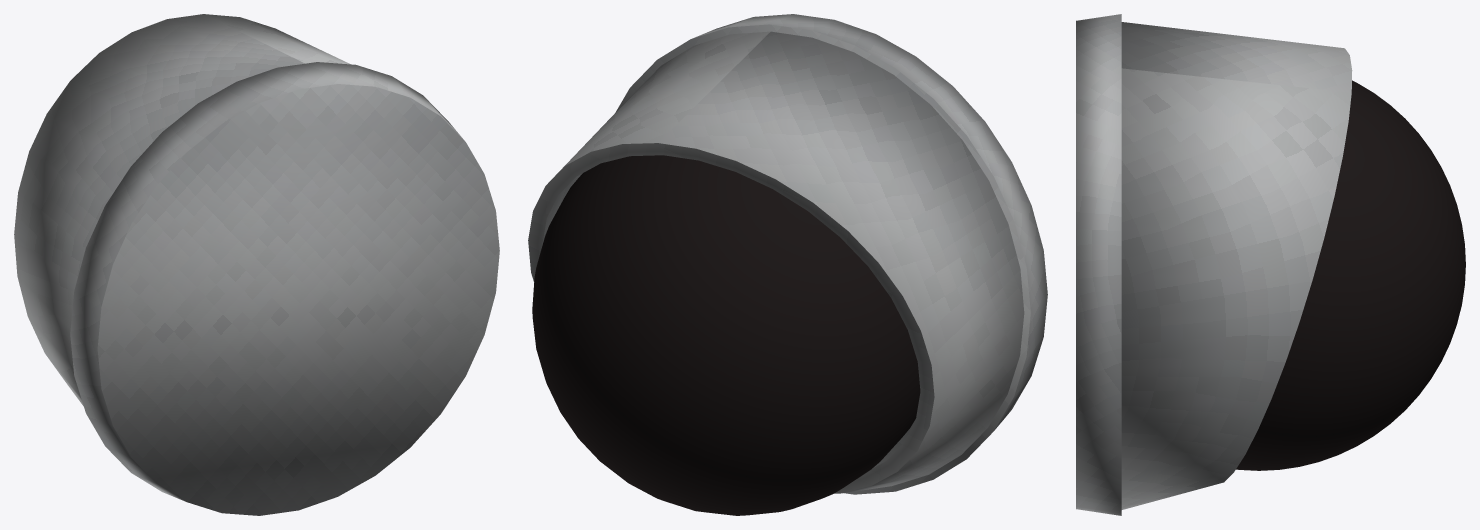
Rendered from SecurityCamera.fbx.
3 views of the same model, side by side, from view 1: azimuth 30°, elevation 25°; view 2: azimuth 150°, elevation 25°; view 3: azimuth 270°, elevation 25° (orthographic). The views are drawn at different scales.
Parts seen in each view (by area): view 1: StationaryBase, RotatingBase; view 2: CameraFace, RotatingBase, StationaryBase; view 3: RotatingBase, CameraFace, StationaryBase.
Part boxes in pixels (x1,y1,x2,y2): StationaryBase: [70, 62, 499, 515]; RotatingBase: [14, 14, 350, 405]; CameraFace: [532, 155, 920, 515]; RotatingBase: [528, 31, 1024, 493]; StationaryBase: [616, 14, 1047, 494]; RotatingBase: [1121, 22, 1352, 509]; CameraFace: [1236, 80, 1465, 470]; StationaryBase: [1076, 14, 1121, 515].
Bounding box in the file's own units: 55 × 55 × 42.68.
